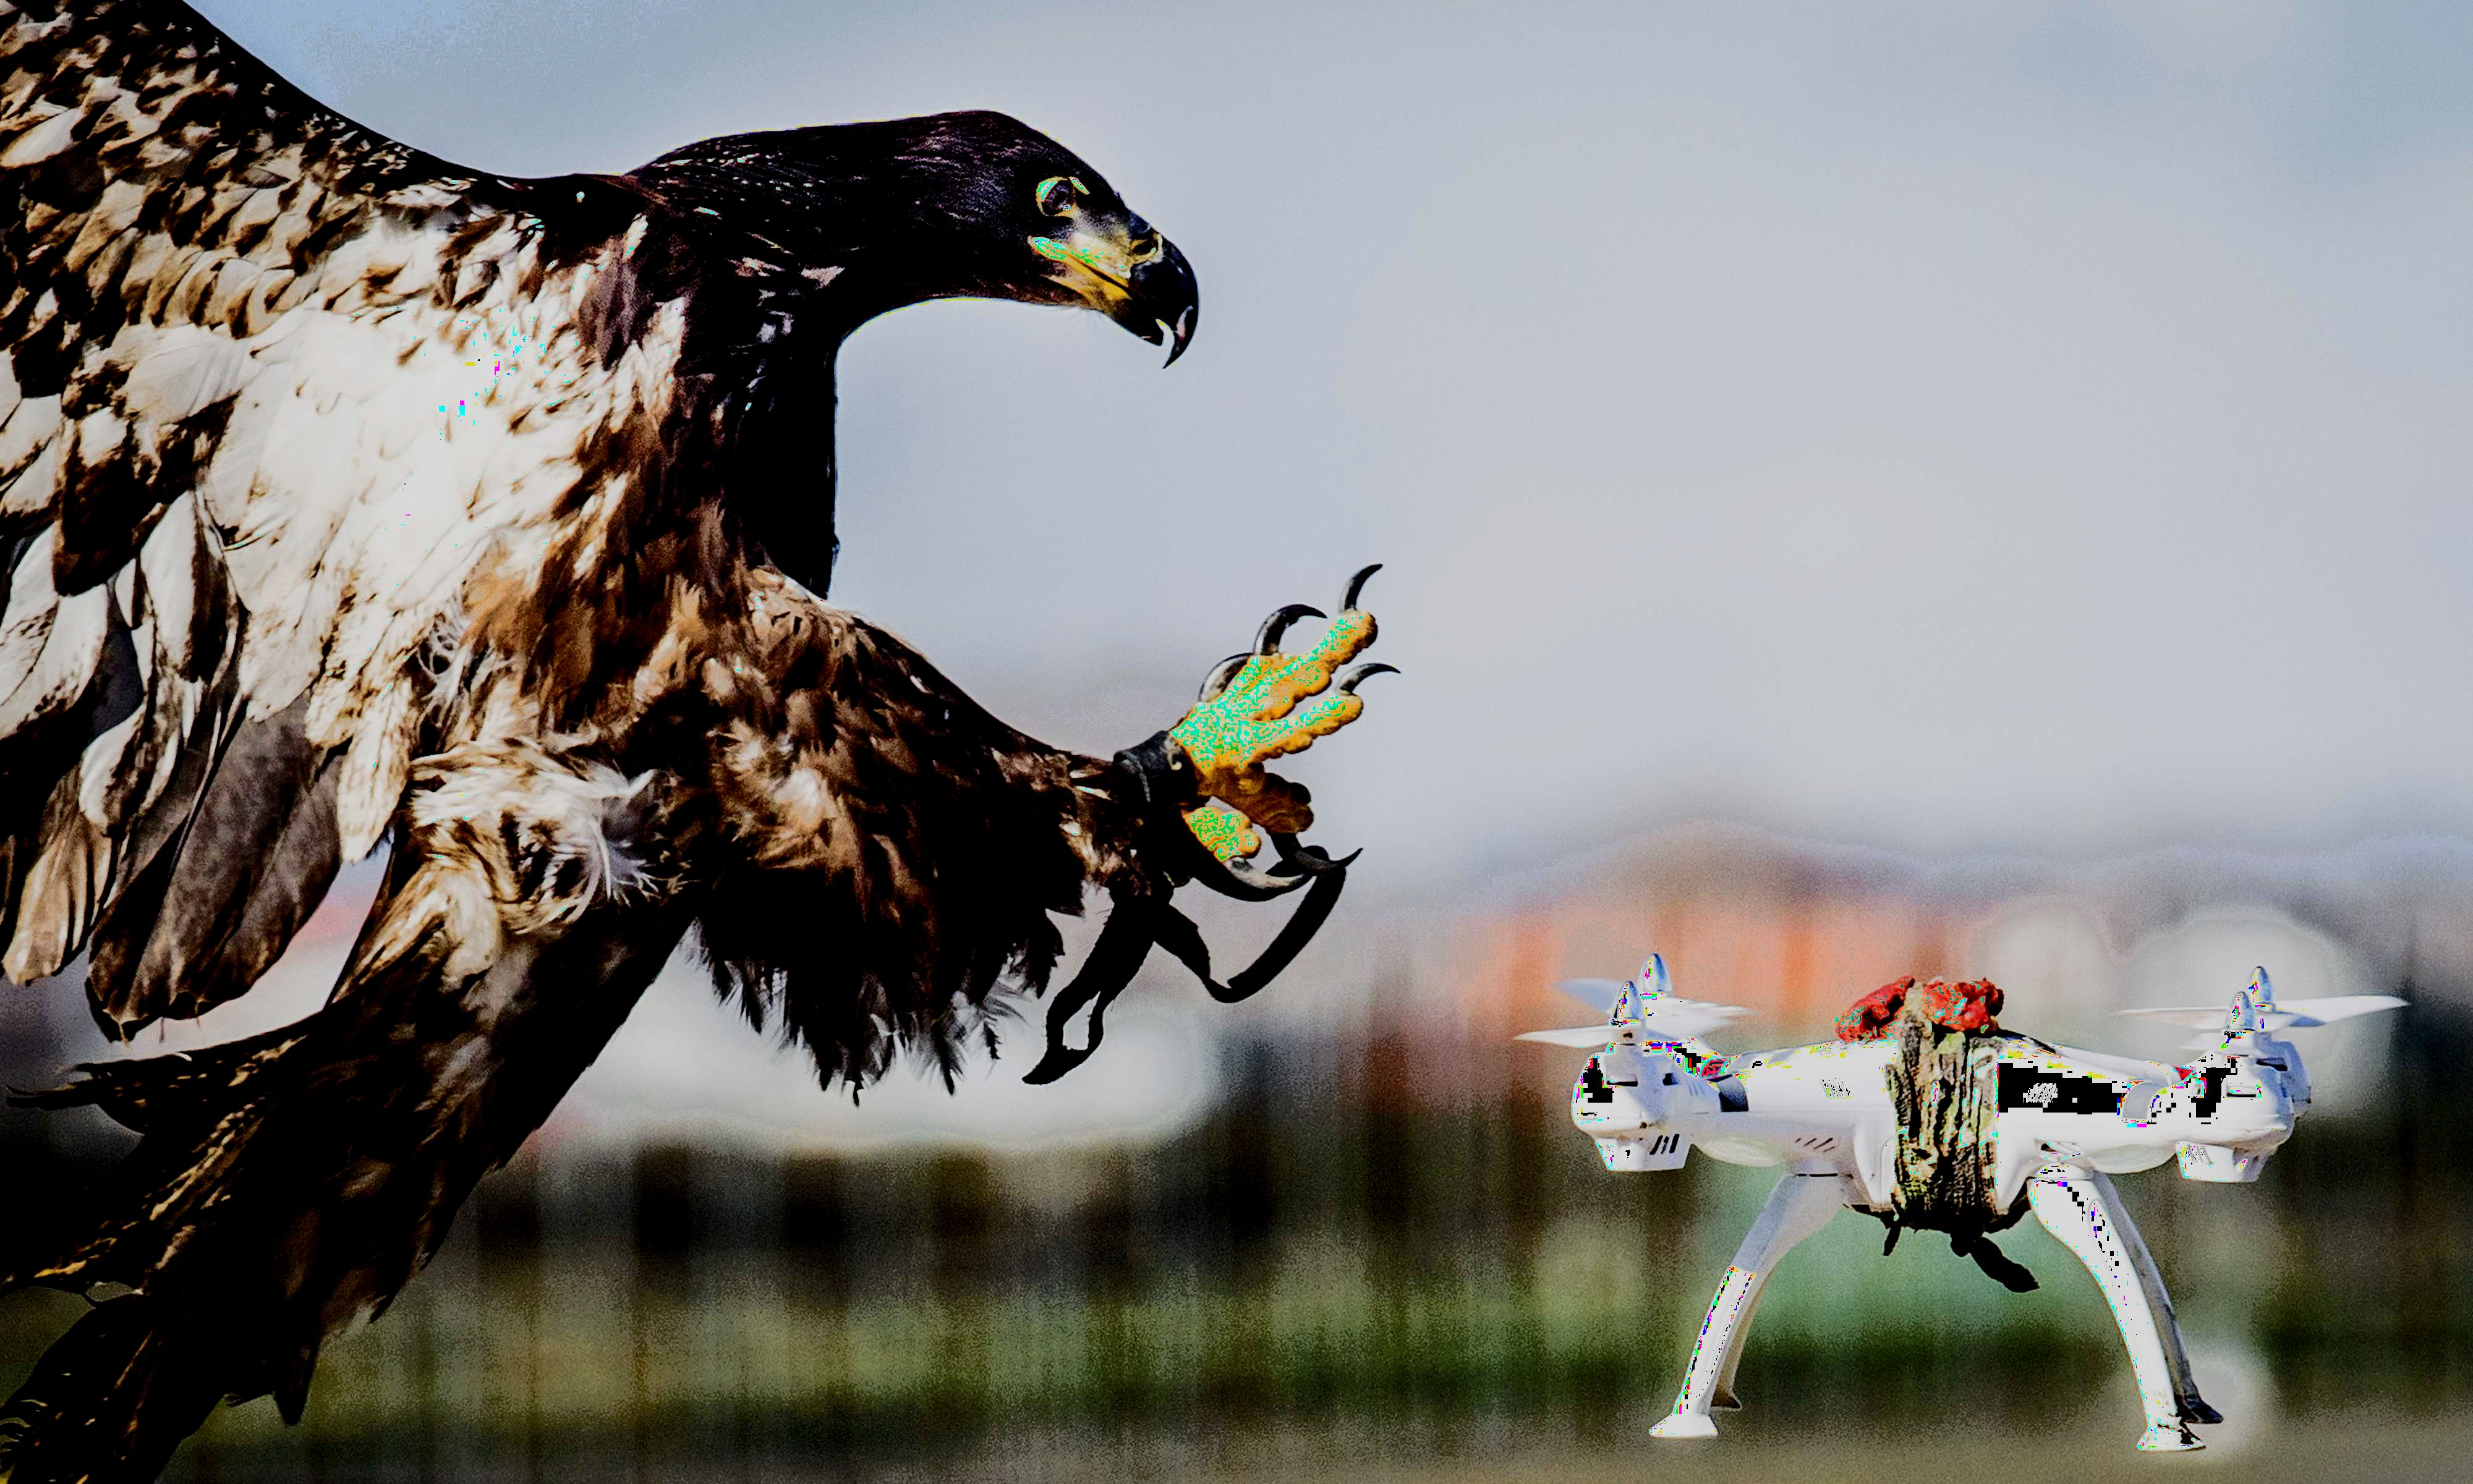Bird: (5, 7, 1399, 1473)
Drone: (1509, 945, 2411, 1457)
